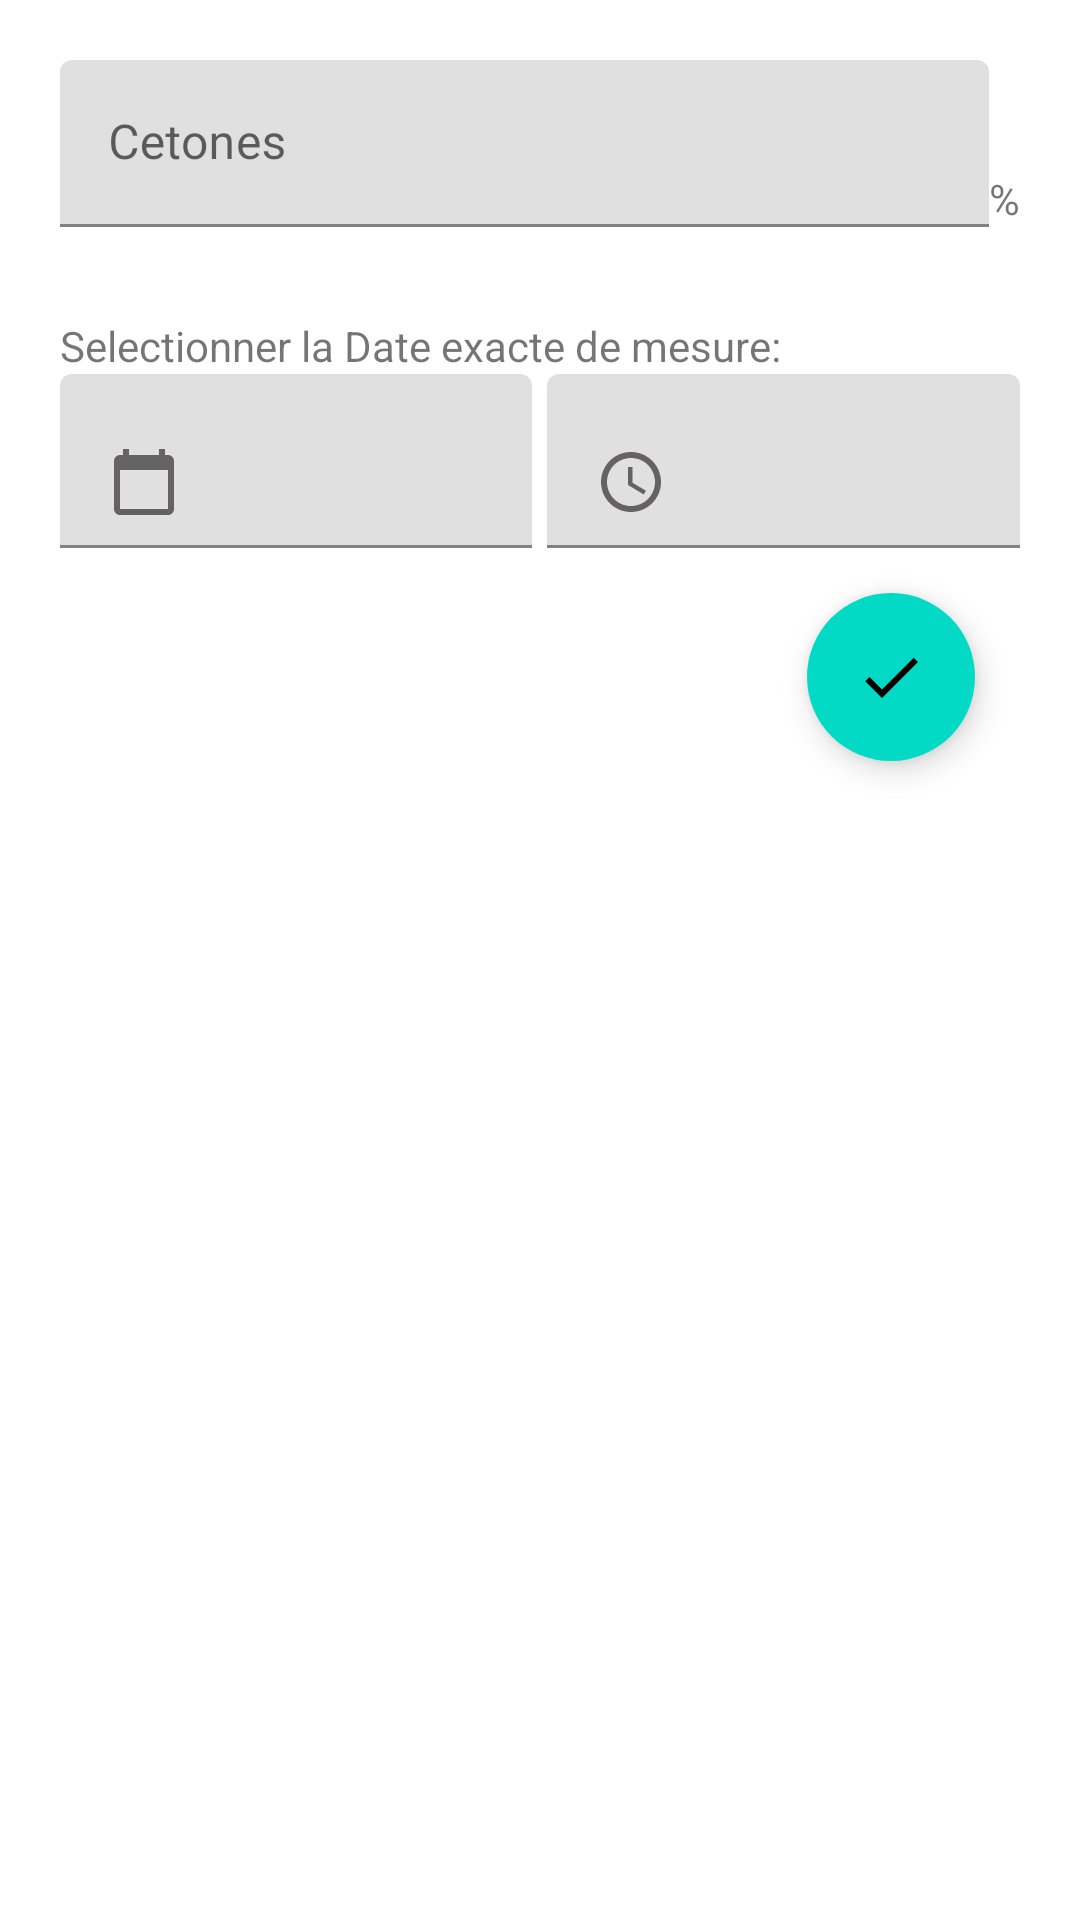

Icons on this 1080*1920 Android screen, each with the point to tap as (x=x, y=y):
check: (x=891, y=677)
